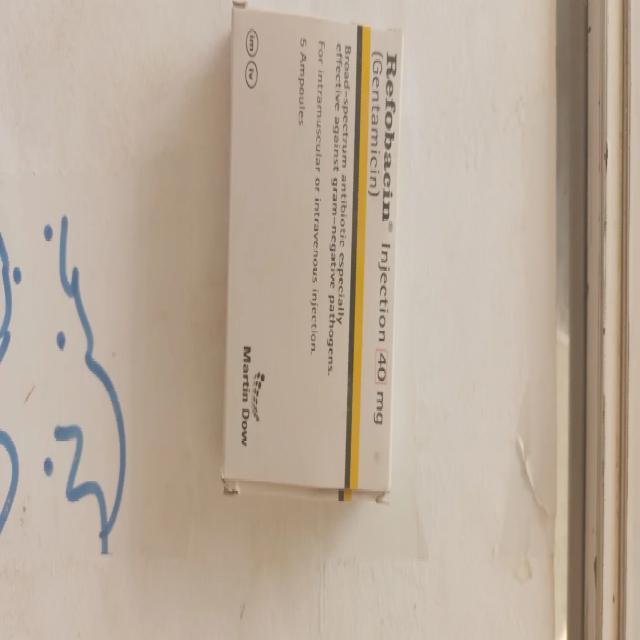drug-name: (379, 49, 399, 230)
